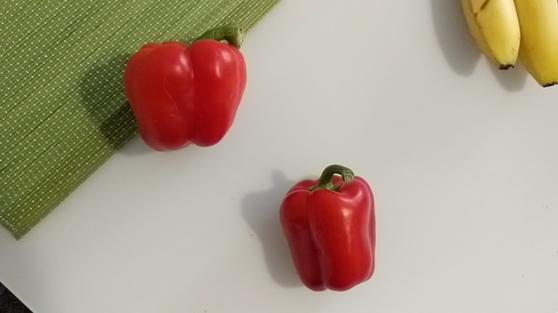pepper: (127, 23, 249, 149), (282, 167, 382, 295)
